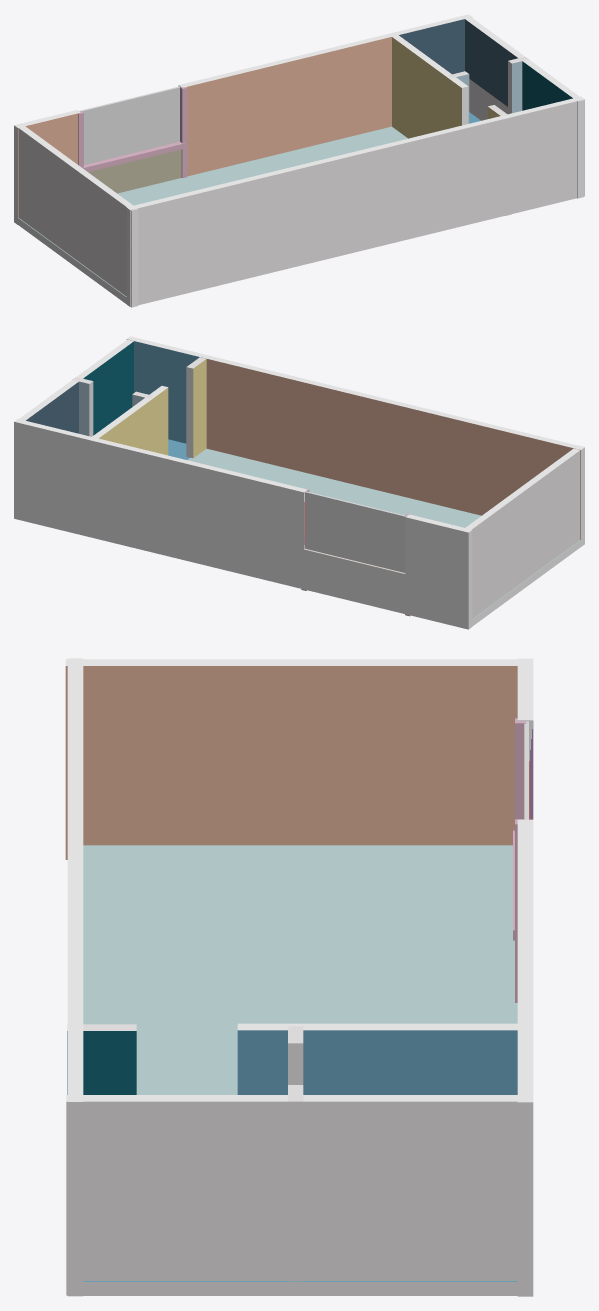
Rendered from SM_RoomLayout.fbx.
3 views of the same model, one above another, from view 1: azimuth 30°, elevation 25°; view 2: azimuth 150°, elevation 25°; view 3: azimuth 270°, elevation 25° (orthographic). The views are drawn at different scales.
Visible parts, largest first — view 1: SM_Room; view 2: SM_Room; view 3: SM_Room.
Boxes of the visible parts, bbox=[...] form: SM_Room: bbox=[14, 14, 584, 307]; SM_Room: bbox=[14, 336, 584, 629]; SM_Room: bbox=[65, 658, 533, 1296].
Bounding box in the file's own units: 4545 × 955 × 2024.
